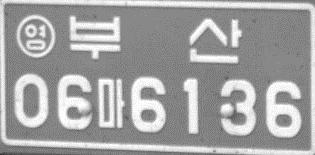0: (11, 72, 48, 129)
1: (172, 77, 210, 134)
3: (219, 79, 256, 136)
6: (129, 74, 167, 134), (55, 72, 92, 131), (264, 80, 301, 139)
마: (95, 78, 126, 129)
부산_D: (66, 15, 243, 64)
영: (15, 13, 55, 59)
